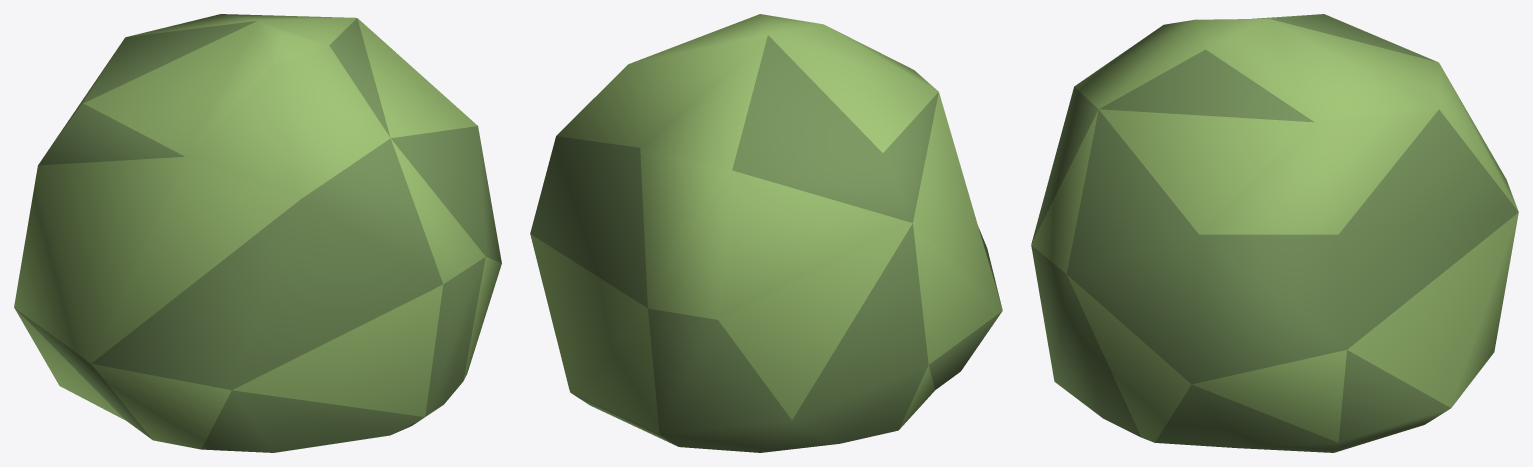
The model's file is bush.fbx.
The picture shows the model from 3 angles, left to right: view 1: azimuth 30°, elevation 25°; view 2: azimuth 150°, elevation 25°; view 3: azimuth 270°, elevation 25°; orthographic projection. The views are drawn at different scales.
Visible parts, largest first — view 1: pSphere1; view 2: pSphere1; view 3: pSphere1.
Part boxes in pixels (left/top/right/bottom): pSphere1: left=14, top=14, right=501, bottom=452; pSphere1: left=530, top=14, right=1002, bottom=452; pSphere1: left=1031, top=14, right=1518, bottom=452.
Size of the model in its own units: 5.49 by 4.43 by 5.59.
